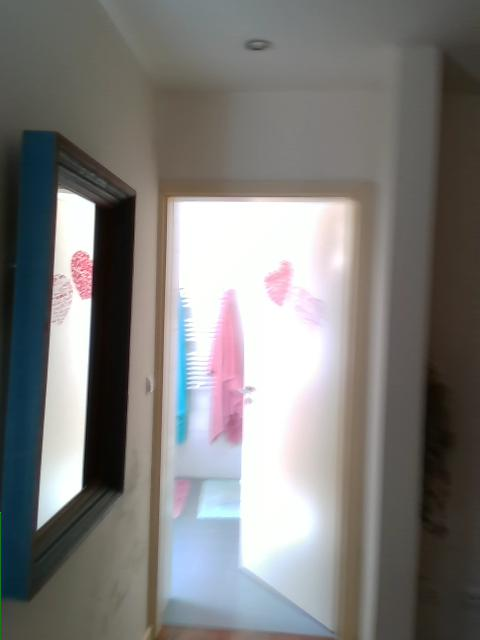semi_door: (142, 178, 378, 639)
